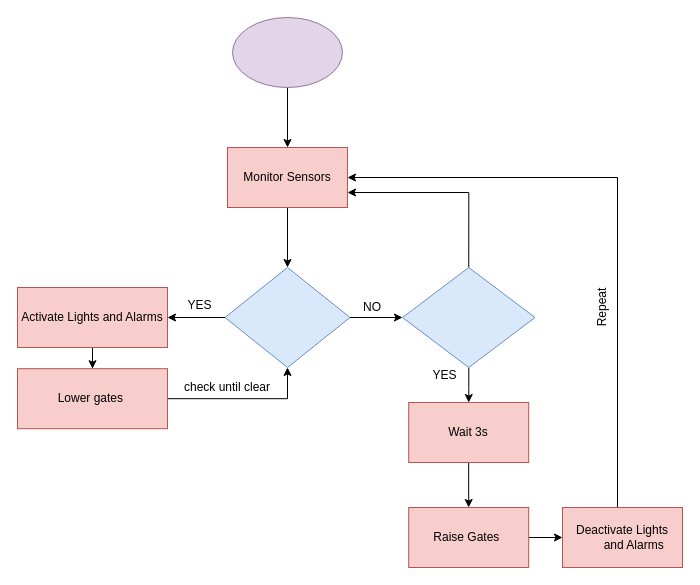
The diagram is 700 pixels wide and 585 high, and some of its shapes have lost their labels. Here are the shapes that lost their labels. From the top down, the centre of each, then its label:
At (x=287, y=52): "System ON".
At (x=287, y=317): "Train OR Vehicle detected?".
At (x=468, y=317): "Are gates currently down?".
